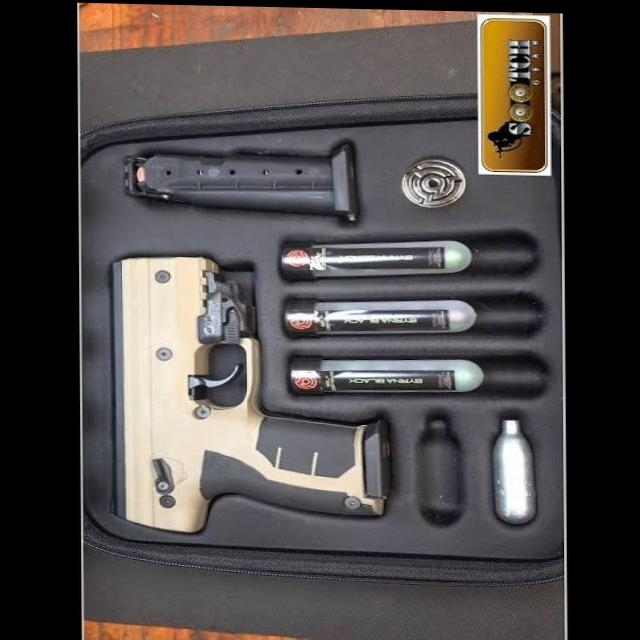handgun: (121, 252, 375, 533)
